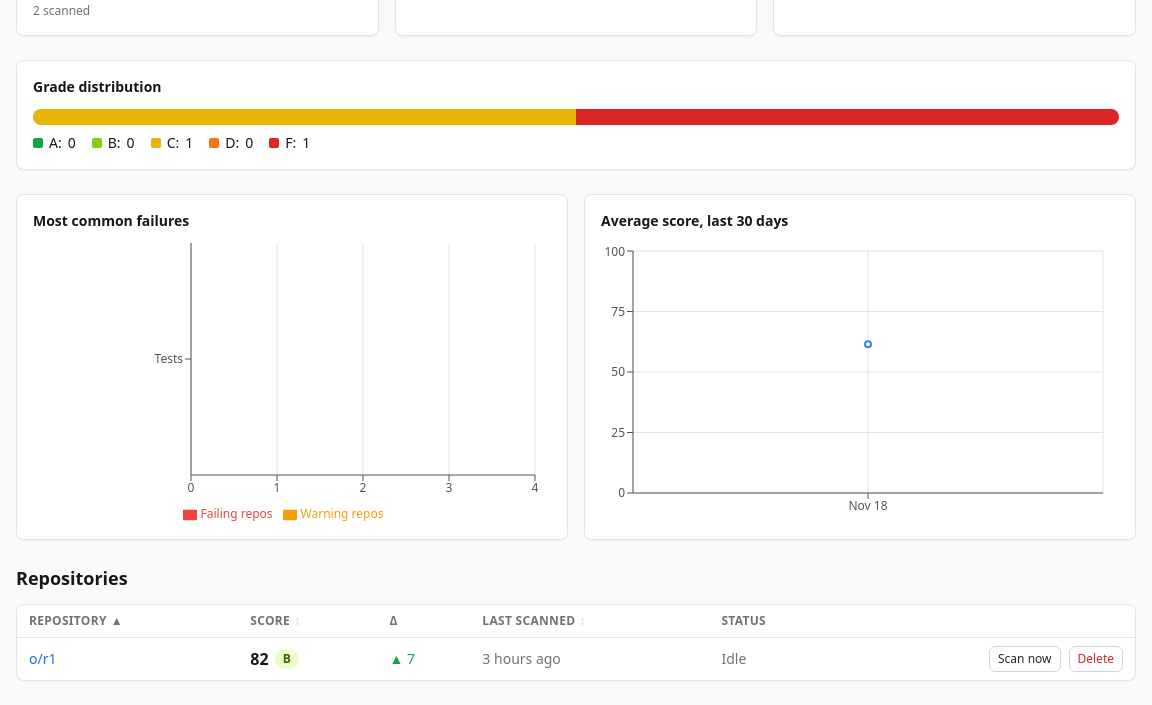
Scenario: dashboard › shows the server's error when a scan cannot be started
(page scrolled)
What coordinates should you click on to do the following:
click the button with aria-label "Scan o/r1 now"
I would click on:
 (1025, 659)
Its box is [989,646,1060,672].
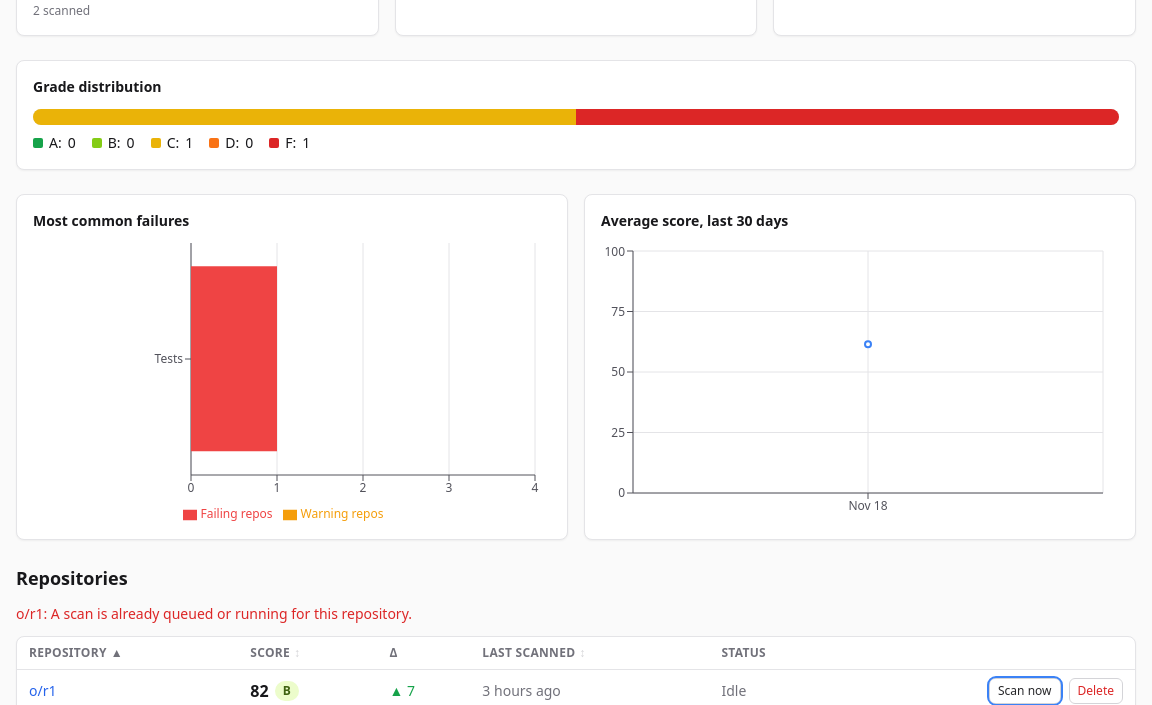
Result: the text "o/r1: A scan is already queued or running for this repository." is shown at [16,604,412,623]
